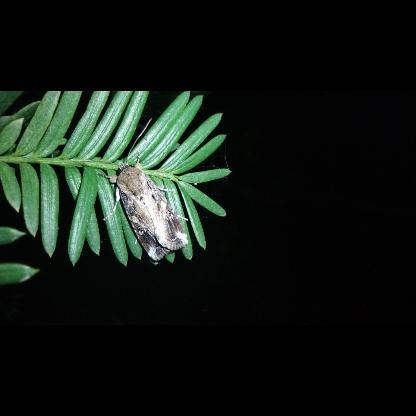Fall Armyworm Moth: (69, 117, 191, 263)
